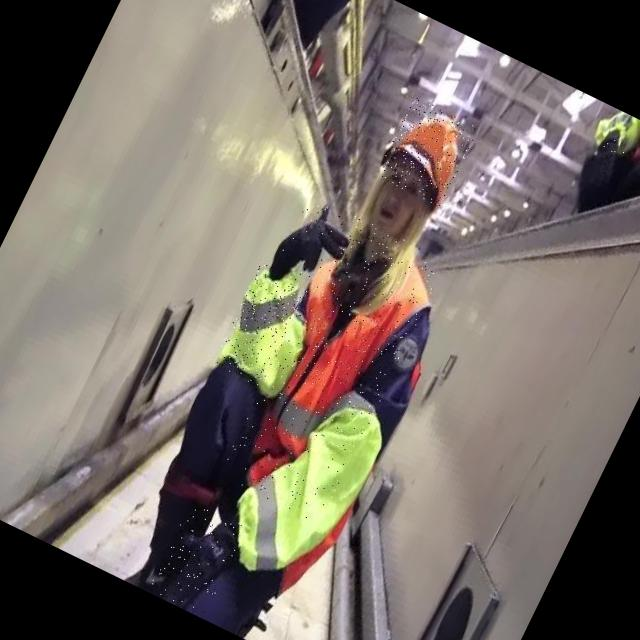hard_hat: (374, 95, 480, 207)
safety_vest: (217, 212, 448, 526), (210, 262, 330, 398)
